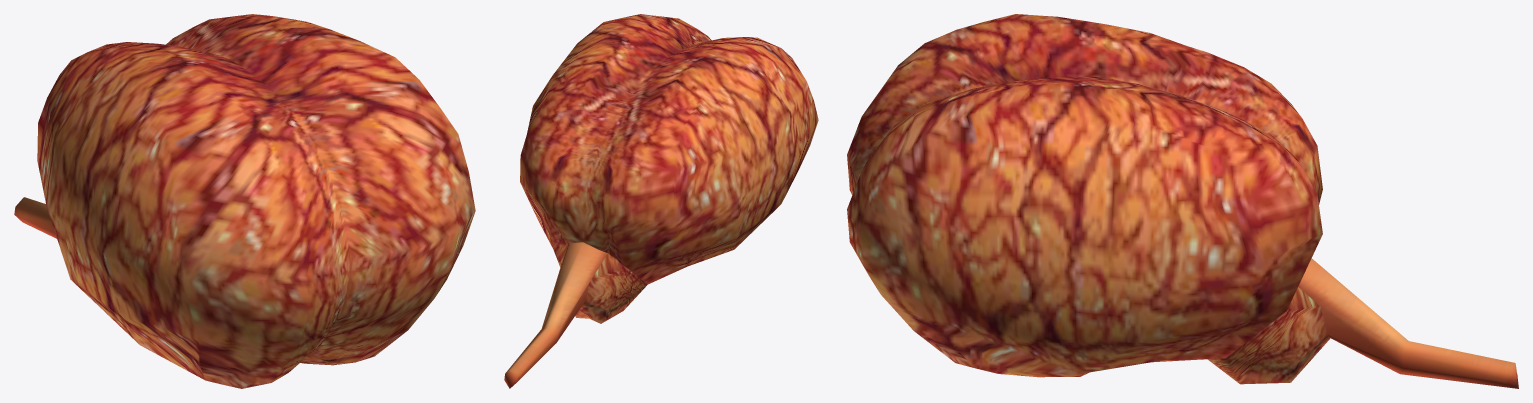
The model's file is eqp_organ_brain_s01_l0.fbx.
The picture shows the model from 3 angles, left to right: view 1: azimuth 30°, elevation 25°; view 2: azimuth 150°, elevation 25°; view 3: azimuth 270°, elevation 25°; orthographic projection. The views are drawn at different scales.
Parts seen in each view (by area): view 1: mesh_node; view 2: mesh_node; view 3: mesh_node.
Boxes of the visible parts, x1,y1,x2,y2 form: mesh_node: (14, 14, 475, 388); mesh_node: (504, 14, 818, 388); mesh_node: (847, 14, 1518, 388).
Size of the model in its own units: 0.1896 by 0.1816 by 0.3325.
